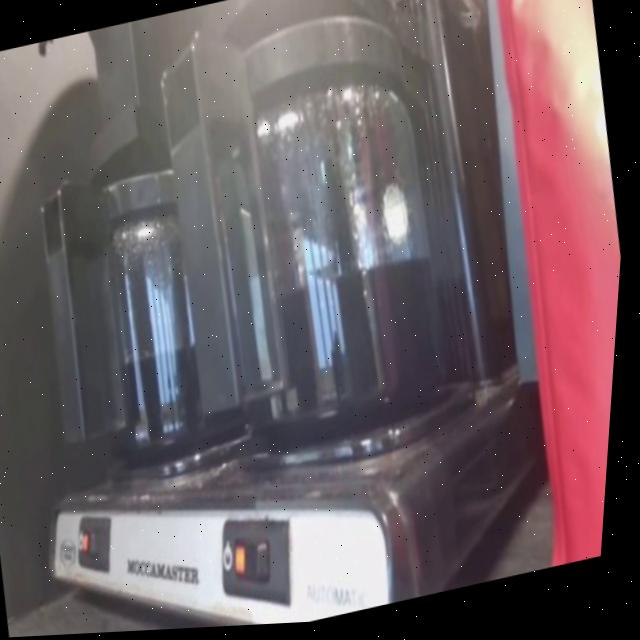coffee: (203, 84, 463, 454), (92, 230, 258, 463)
